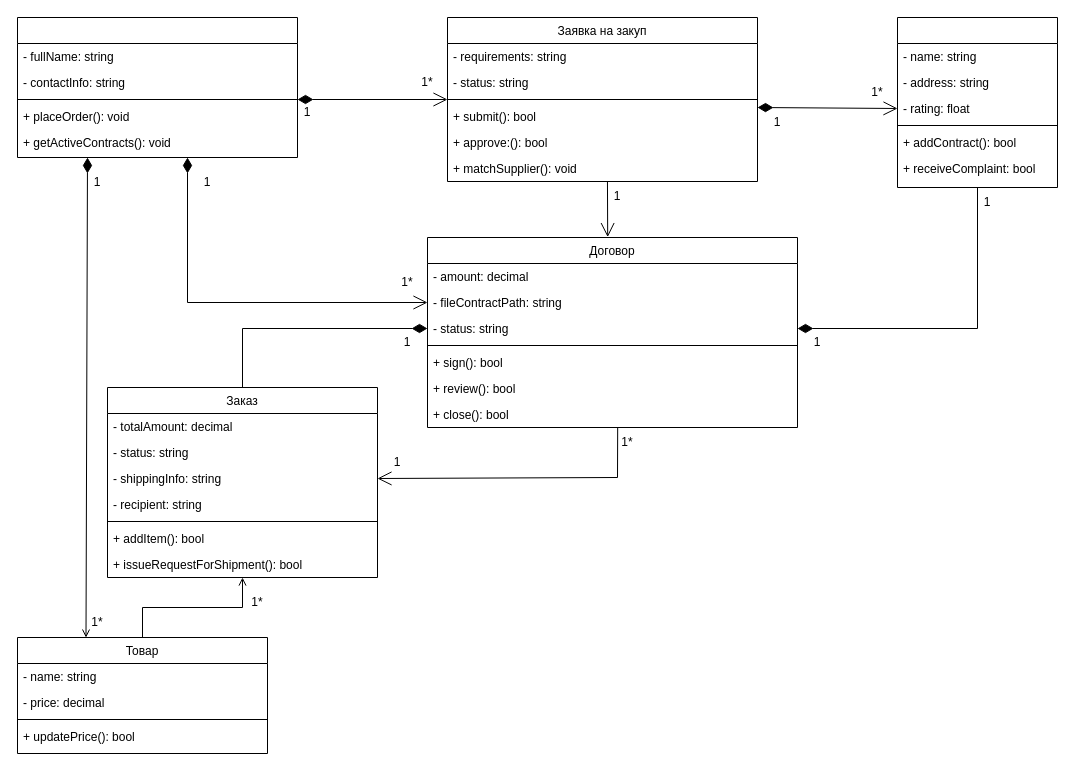
Image size: 1075x771. Some labels were removed from this diagram. Each missing label, with the box of its shape:
Клиент: (16, 16, 298, 158)
Поставщик: (896, 16, 1058, 188)
